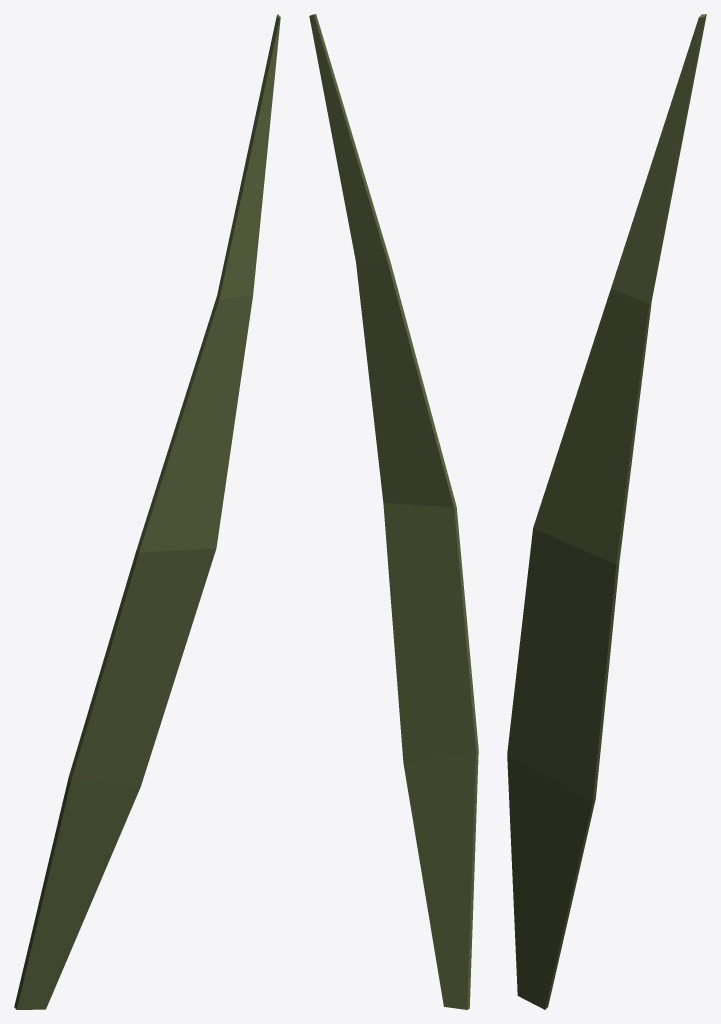
The model's file is bush.fbx.
The picture shows the model from 3 angles, left to right: view 1: azimuth 30°, elevation 25°; view 2: azimuth 150°, elevation 25°; view 3: azimuth 330°, elevation 25°; orthographic projection. The views are drawn at different scales.
Parts seen in each view (by area): view 1: grass; view 2: grass; view 3: grass.
Part boxes in pixels (x1=…): grass: x1=14, y1=14, x2=280, y2=1009; grass: x1=309, y1=14, x2=478, y2=1009; grass: x1=507, y1=14, x2=706, y2=1009.
Size of the model in its own units: 32.02 by 139 by 15.85.
